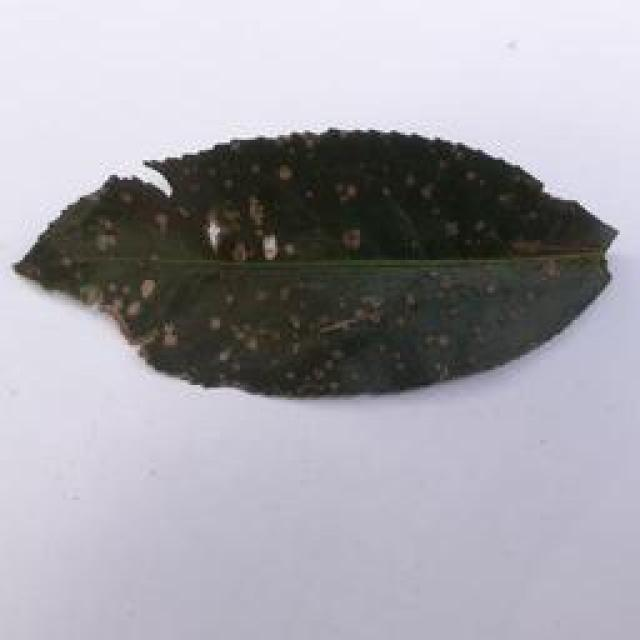Algal Leaf Spot: (12, 122, 632, 402)
